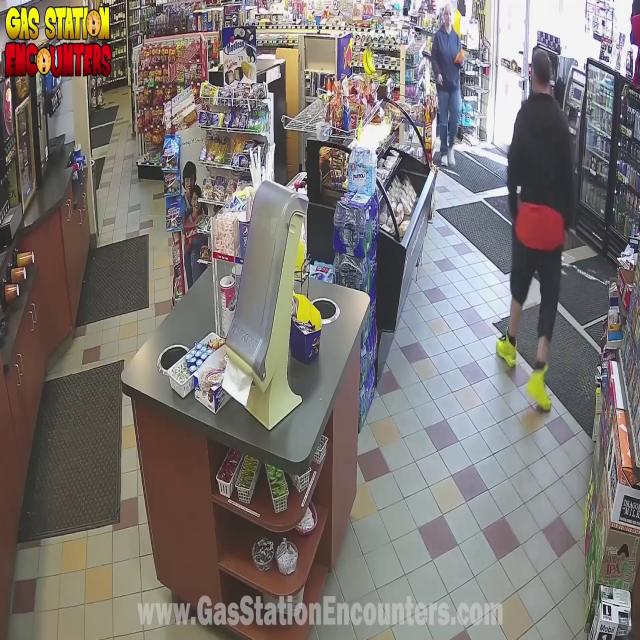Product: (452, 46, 467, 74)
normal: (486, 28, 592, 434)
shoplifting: (422, 0, 472, 184)
